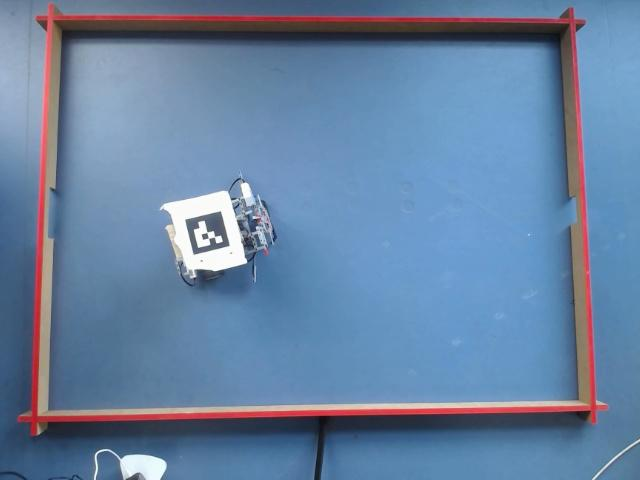ev3: (160, 173, 277, 287)
